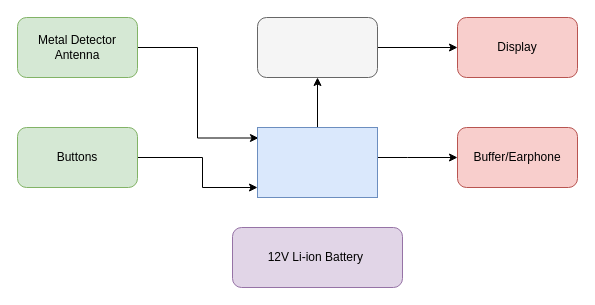
Some shapes in this 595 by 305 pixel diagram are drawn without their labels. The shapes that lost their labels are listed below. From the top down, each one's box as (x1, y1, x2, y2) in pixels, then its label:
(256, 16, 378, 78): SPI Interface
(256, 126, 378, 198): Microcontroller
